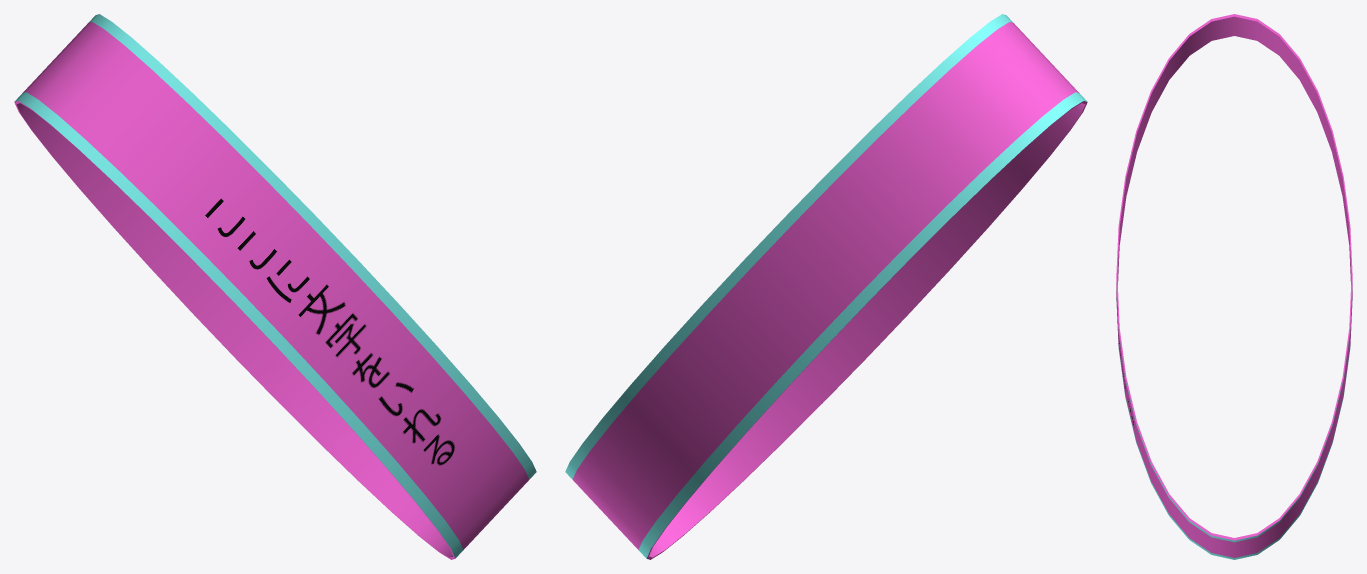
File: accessory_template.glb
The picture shows the model from 3 angles, left to right: view 1: azimuth 30°, elevation 25°; view 2: azimuth 150°, elevation 25°; view 3: azimuth 270°, elevation 25°; orthographic projection. The views are drawn at different scales.
Visible parts, largest first — view 1: fbx; view 2: fbx; view 3: fbx.
Part boxes in pixels (left/top/right/bottom): fbx: left=14, top=14, right=536, bottom=559; fbx: left=565, top=14, right=1087, bottom=559; fbx: left=1116, top=14, right=1352, bottom=559.
Size of the model in its own units: 0.4634 by 0.5518 by 0.2732.
1 material, 1 textured.
